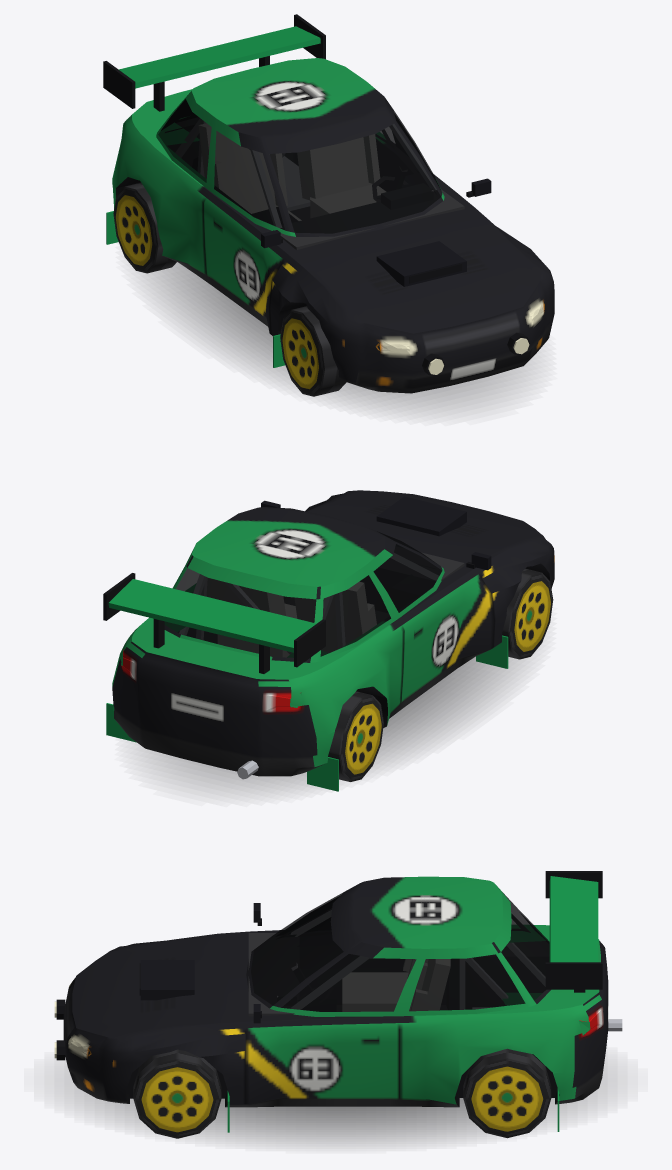
File: lufada.glb
The picture shows the model from 3 angles, top to bottom: view 1: azimuth 30°, elevation 25°; view 2: azimuth 150°, elevation 25°; view 3: azimuth 270°, elevation 25°; orthographic projection.
Parts seen in each view (by area): view 1: Carroceria, Interior, Capo_malha, Porta_D_malha, Sombra, Tampa_malha, Roda_DD, Roda_TD, Porta_E_malha, Farol; view 2: Carroceria, Tampa_malha, Porta_D_malha, Sombra, Interior, Capo_malha, Roda_TD, Roda_DD, Lanterna; view 3: Carroceria, Porta_E_malha, Interior, Capo_malha, Sombra, Tampa_malha, Roda_TE, Roda_DE, Porta_D_malha.
Boxes of the visible parts, box(x1,y1,x2,y2) form: Carroceria: box(103, 14, 554, 393); Interior: box(165, 117, 464, 250); Capo_malha: box(303, 217, 540, 332); Porta_D_malha: box(203, 127, 290, 334); Sombra: box(146, 262, 531, 411); Tampa_malha: box(119, 26, 320, 129); Roda_DD: box(280, 306, 346, 396); Roda_TD: box(113, 182, 176, 273); Porta_E_malha: box(384, 97, 491, 197); Farol: box(375, 302, 544, 355); Carroceria: box(103, 490, 554, 791); Tampa_malha: box(108, 557, 317, 755); Porta_D_malha: box(378, 537, 494, 701); Sombra: box(144, 657, 524, 792); Interior: box(178, 547, 464, 656); Capo_malha: box(312, 490, 539, 558); Roda_TD: box(328, 691, 383, 781); Roda_DD: box(502, 568, 553, 659); Lanterna: box(121, 649, 301, 710); Carroceria: box(54, 871, 622, 1132); Porta_E_malha: box(245, 942, 399, 1104); Interior: box(248, 909, 548, 1016); Capo_malha: box(78, 935, 228, 1036); Sombra: box(64, 1066, 607, 1143); Tampa_malha: box(494, 876, 608, 1068); Roda_TE: box(463, 1048, 551, 1138); Roda_DE: box(133, 1049, 221, 1138); Porta_D_malha: box(253, 897, 337, 935).
Bounding box in the file's own units: 2.52 × 1.35 × 4.53.
14 materials, 5 textured.
